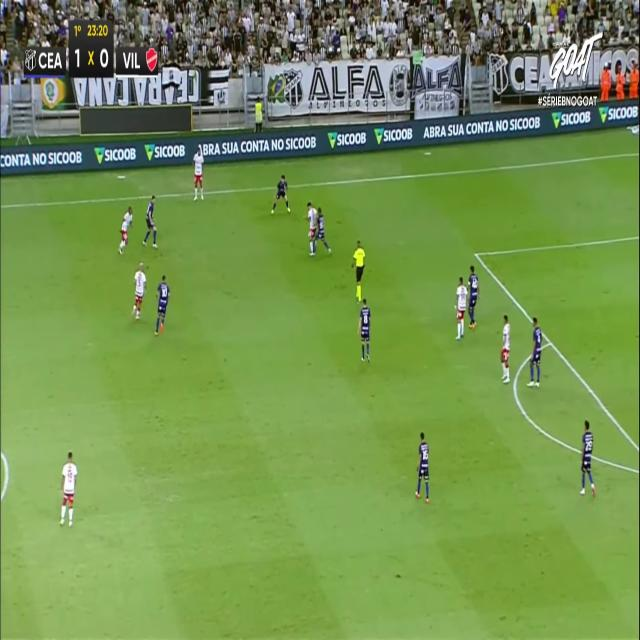ball: (309, 231, 313, 238)
player: (60, 450, 76, 527), (580, 419, 596, 495), (415, 431, 429, 502), (529, 316, 542, 387), (154, 275, 169, 336), (313, 205, 331, 254), (466, 265, 479, 330), (303, 202, 318, 258), (358, 297, 371, 361), (132, 261, 146, 320), (142, 194, 157, 247), (455, 276, 467, 340), (271, 174, 290, 214), (118, 206, 133, 254), (500, 314, 510, 382), (193, 144, 204, 201)
referee: (352, 240, 366, 301)
